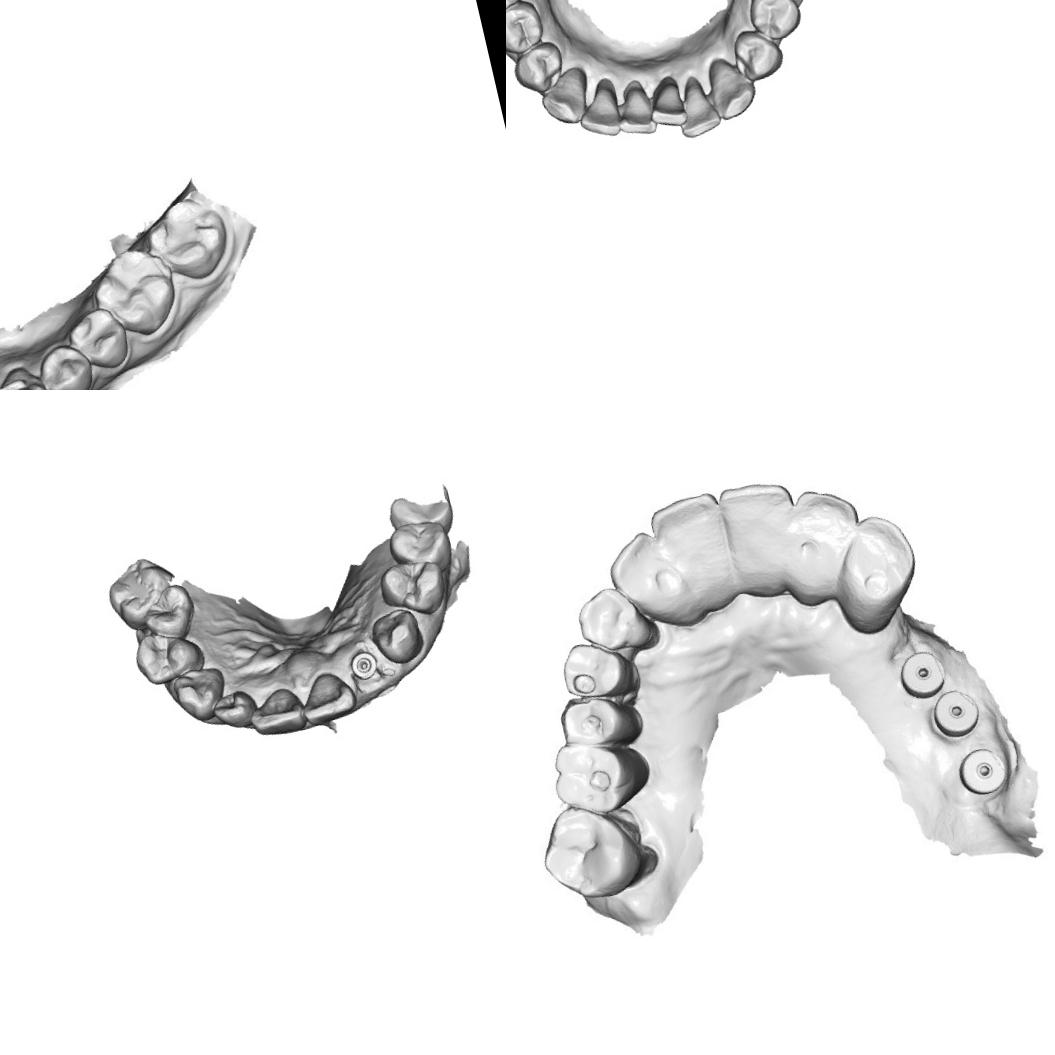canine: (570, 579, 666, 669), (836, 507, 926, 600), (364, 604, 430, 672), (533, 63, 597, 132), (704, 53, 762, 124), (168, 663, 233, 726), (0, 362, 51, 390)
implant: (950, 738, 1014, 804), (927, 684, 991, 743), (894, 644, 954, 704), (346, 646, 382, 684)
incisor: (650, 490, 748, 622), (719, 476, 812, 601), (777, 480, 871, 597), (611, 524, 698, 640), (294, 666, 362, 730), (670, 69, 725, 141), (244, 682, 308, 742), (571, 76, 624, 144), (642, 73, 690, 133), (612, 80, 658, 142), (208, 686, 262, 736)
molar: (530, 790, 670, 912), (546, 728, 662, 820), (89, 242, 182, 339), (145, 192, 233, 282), (100, 552, 180, 632), (387, 485, 464, 544)
premolar: (551, 630, 647, 718), (557, 684, 652, 762), (374, 552, 453, 625), (130, 624, 208, 690), (384, 514, 458, 582), (134, 579, 202, 646), (70, 306, 130, 368), (508, 37, 568, 98), (729, 23, 788, 84), (743, 0, 806, 45), (39, 343, 92, 390), (506, 0, 548, 58)
